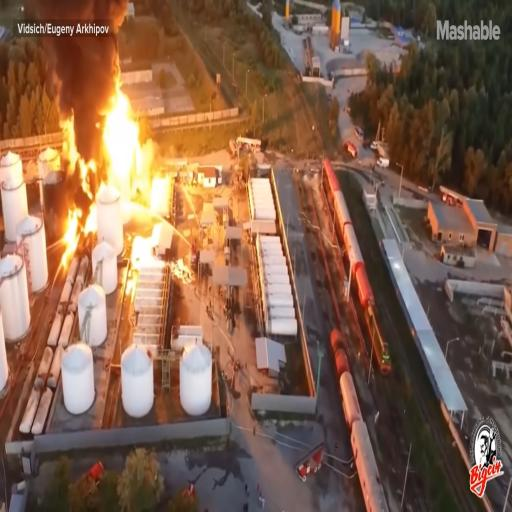fire: (95, 87, 154, 192), (60, 37, 108, 98), (60, 115, 86, 174), (62, 204, 80, 258)
